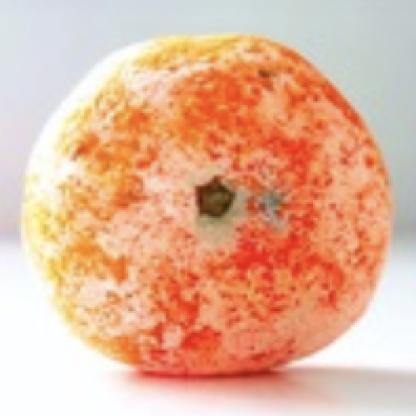rotten: (23, 33, 392, 381)
